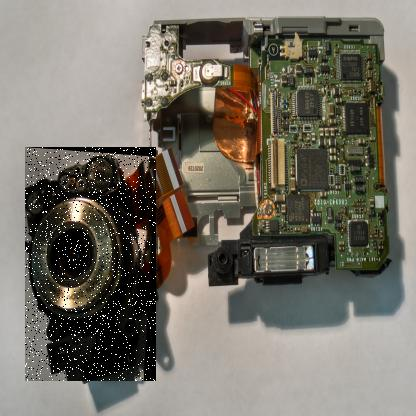Camera: (26, 148, 158, 383)
